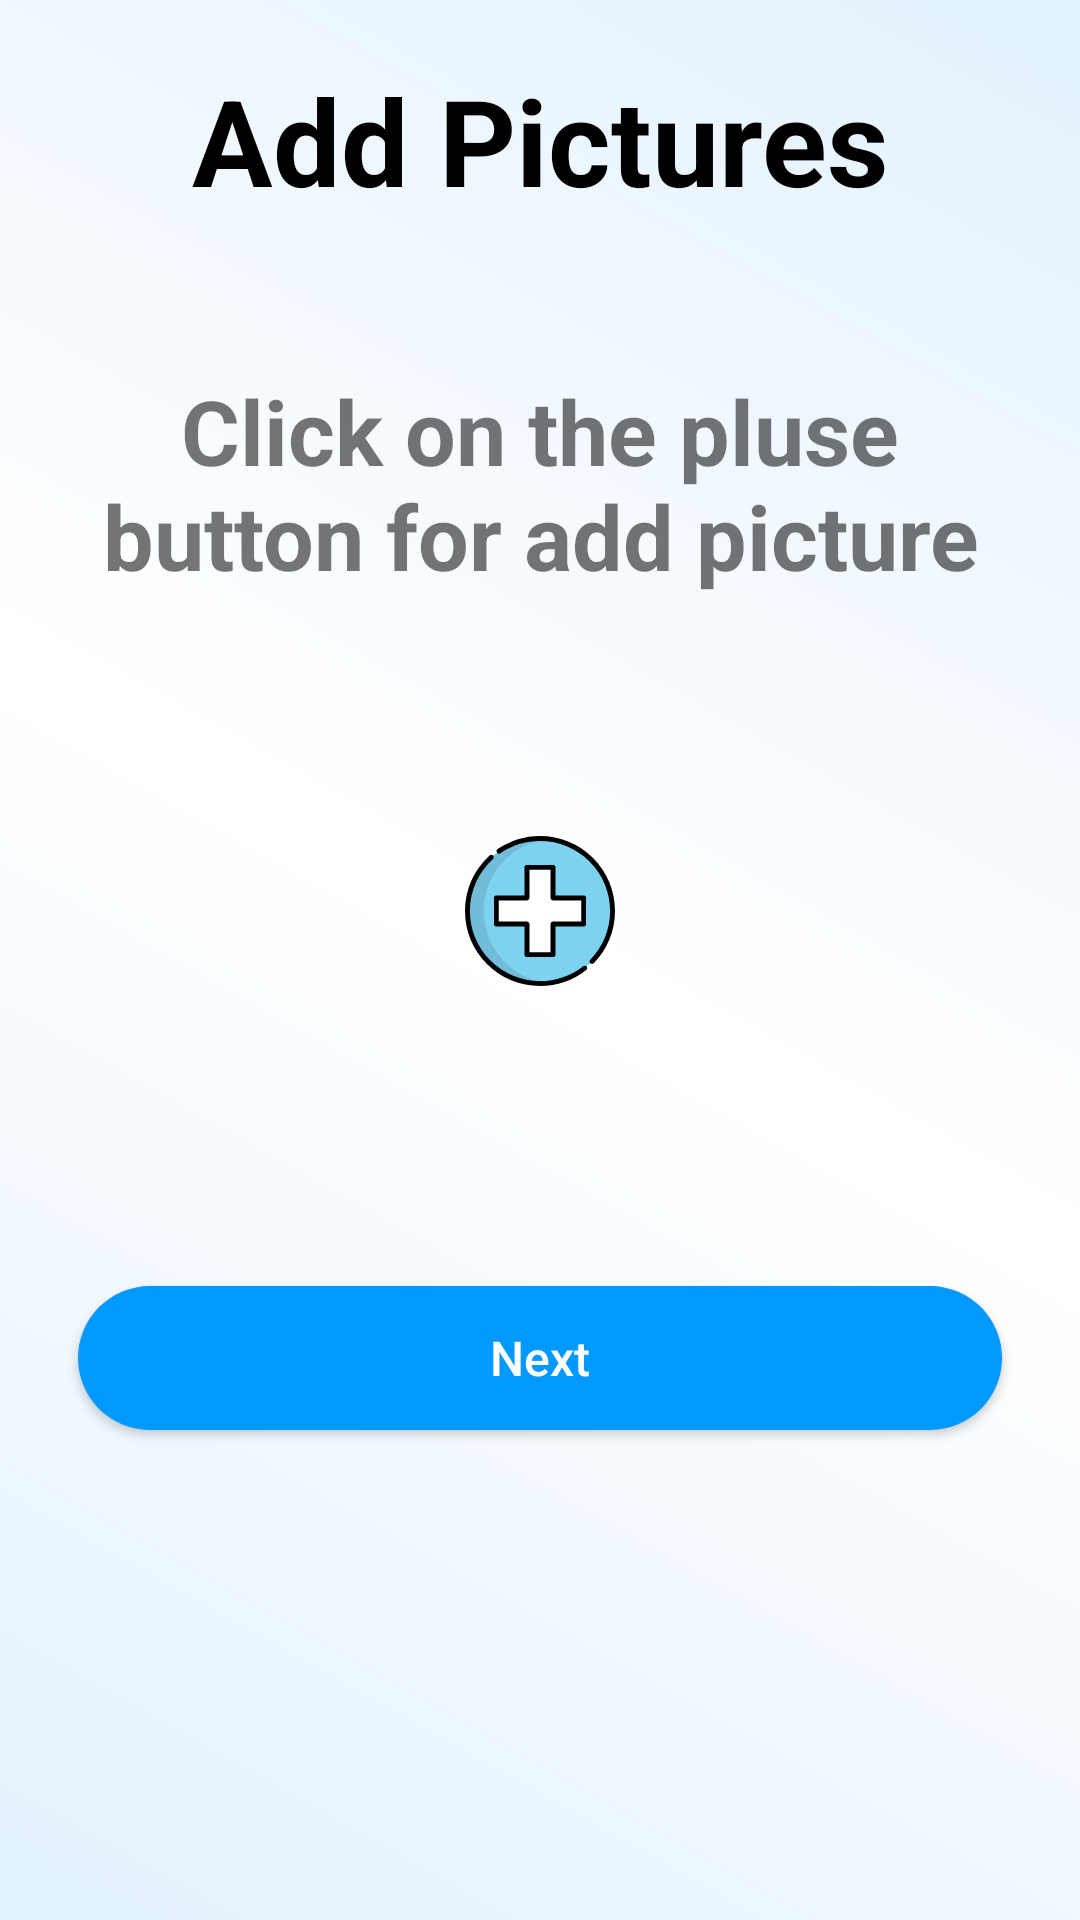

Named icons in this screenshot (1080px×1920px) and their centers, (x,y):
add plus: (540,911)
